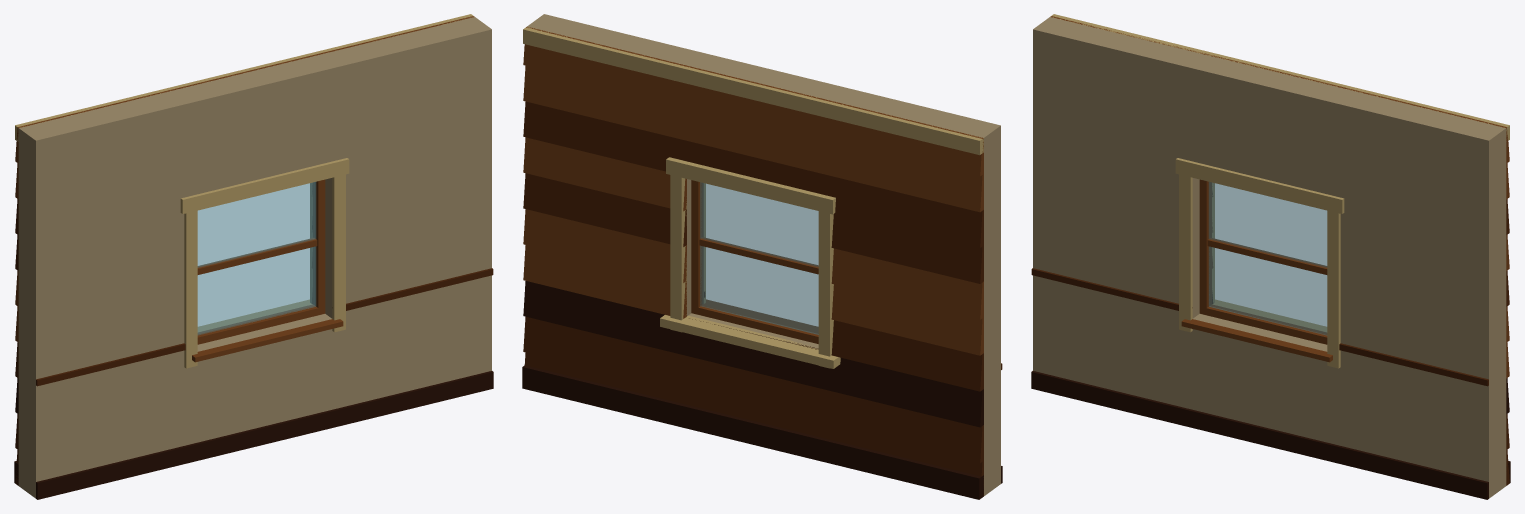
Rendered from SM_Bld_Wall_Window_SingleBar.glb.
The picture shows the model from 3 angles, left to right: view 1: azimuth 30°, elevation 25°; view 2: azimuth 150°, elevation 25°; view 3: azimuth 330°, elevation 25°; orthographic projection.
Visible parts, largest first — view 1: SM_Bld_Wall_Window_SingleBar; view 2: SM_Bld_Wall_Window_SingleBar; view 3: SM_Bld_Wall_Window_SingleBar.
Part boxes in pixels (x1,y1,x2,y2): SM_Bld_Wall_Window_SingleBar: (14,14,493,499); SM_Bld_Wall_Window_SingleBar: (522,14,1002,499); SM_Bld_Wall_Window_SingleBar: (1031,14,1510,499).
Size of the model in its own units: 4 by 3 by 0.47.
2 materials, 2 textured.
